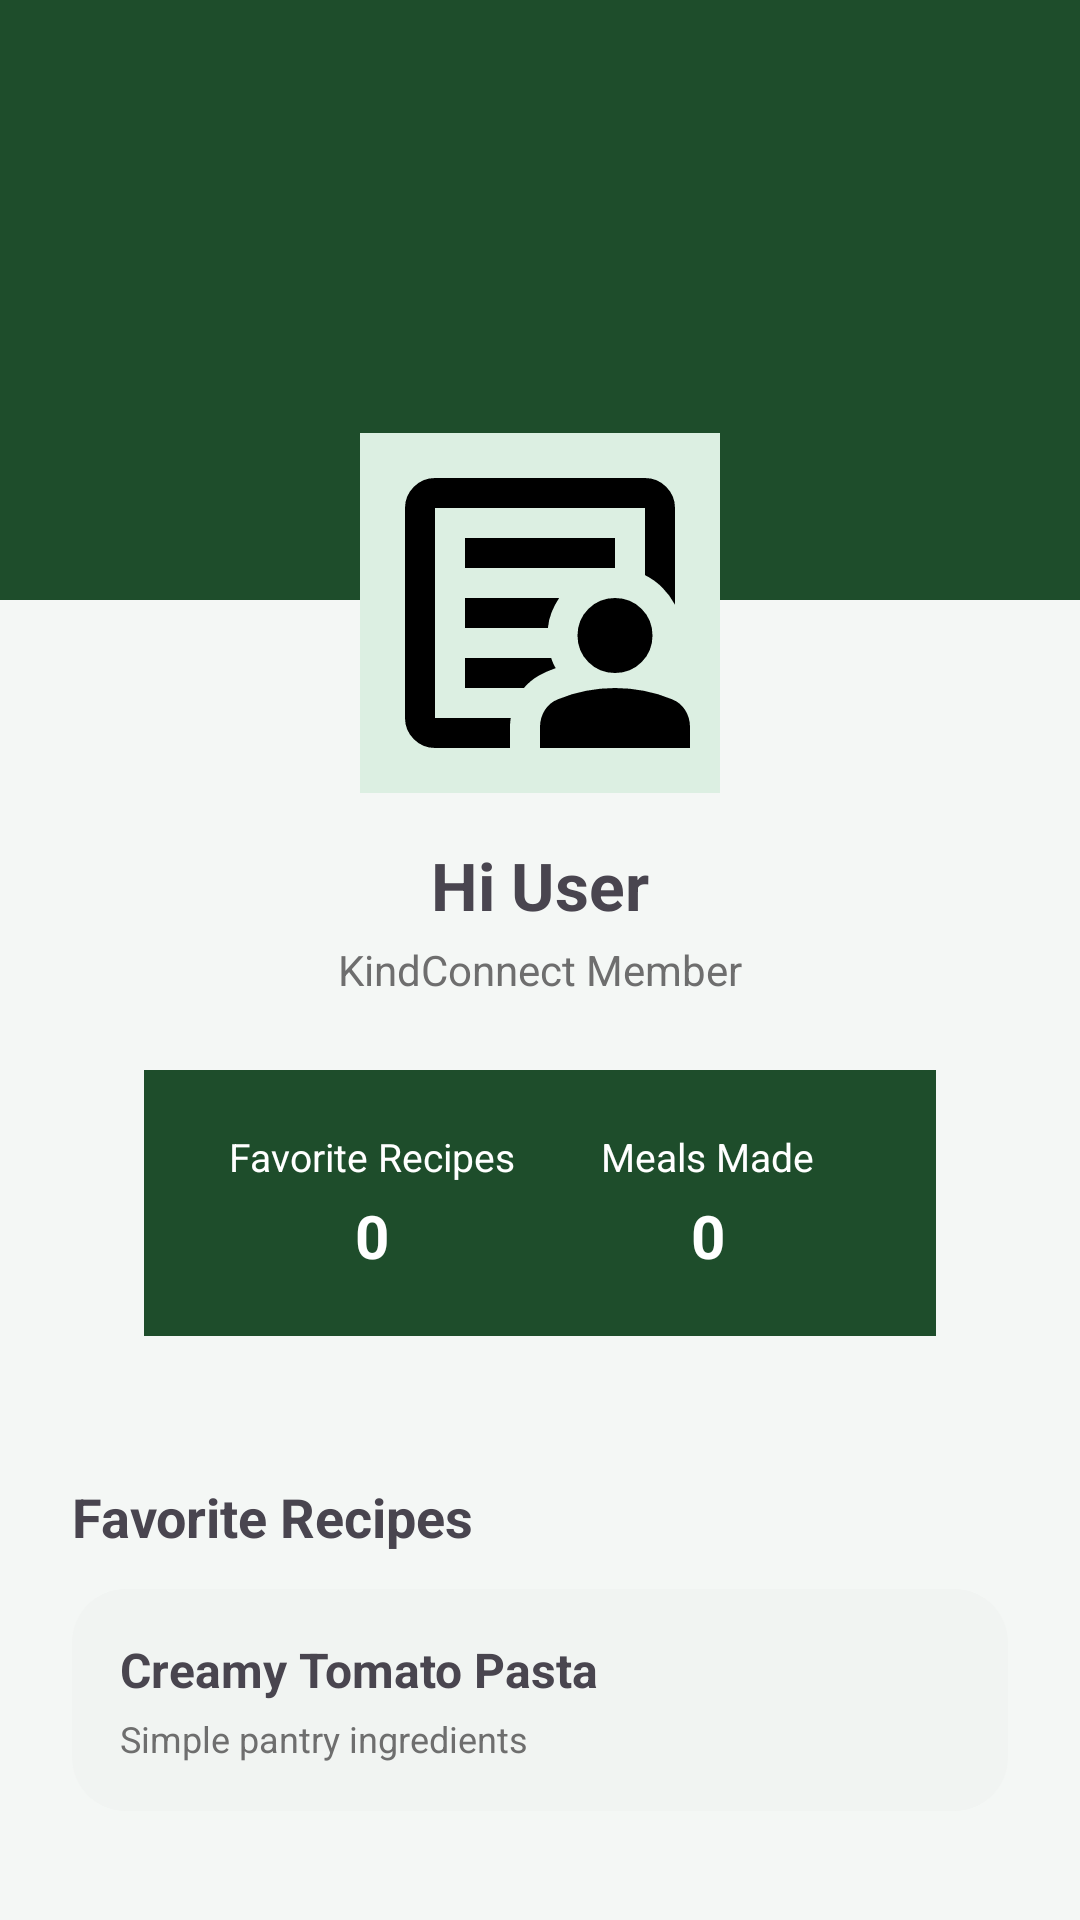

Screen size 1080 × 1920. Icon name, then its center in pixels as (x,y):
profile person: (540,613)
